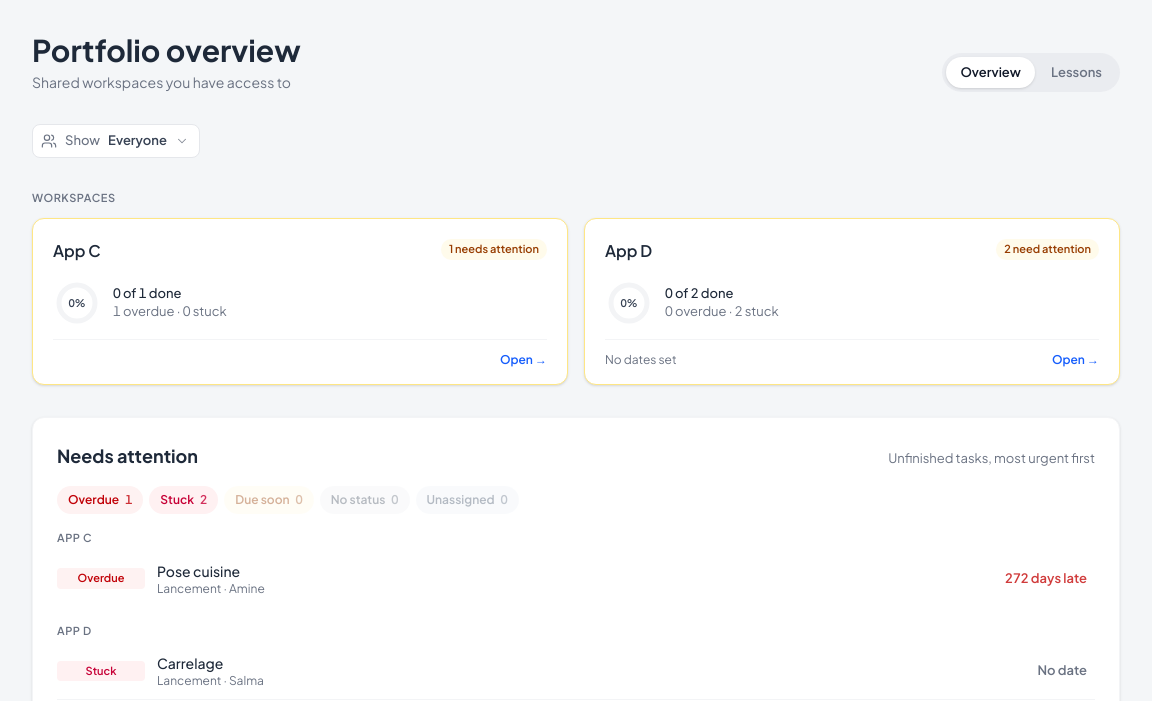
Test: PortfolioOverview › one person's tasks › offers team members only, with their open tasks
This screenshot has width=1152, height=701.
Click the button "Show Everyone" at (116, 141), box [32, 124, 200, 158]
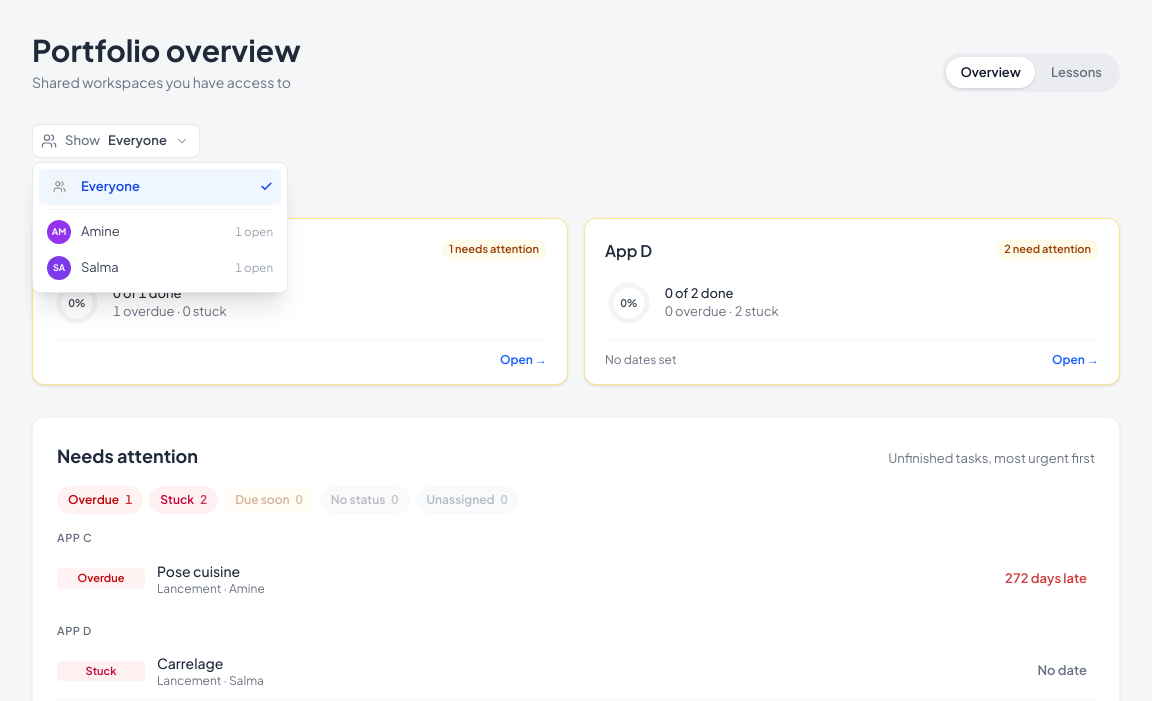
Expected: the option "AM Amine 1 open" is shown, [39, 214, 281, 250]
Expected: the option "SA Salma 1 open" is shown, [39, 250, 281, 286]
